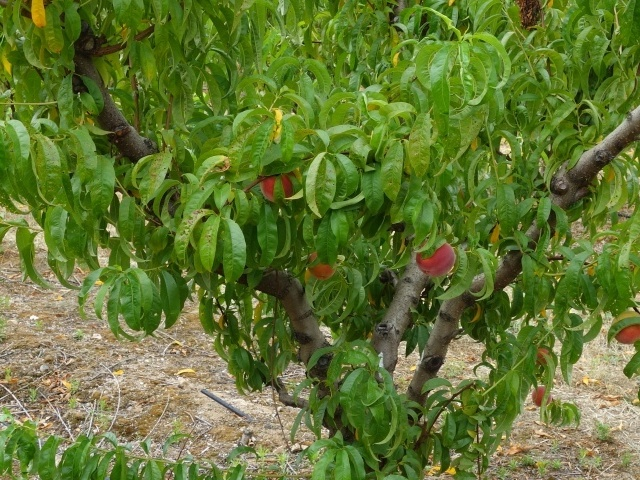peach: (412, 236, 458, 281), (255, 162, 300, 206), (609, 305, 640, 349), (301, 246, 339, 281), (528, 381, 554, 411), (531, 344, 554, 367)
